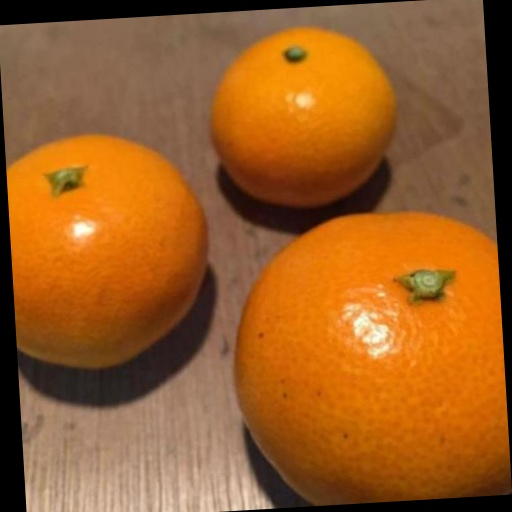fruit: (235, 213, 511, 505), (6, 136, 206, 367), (211, 28, 394, 207)
